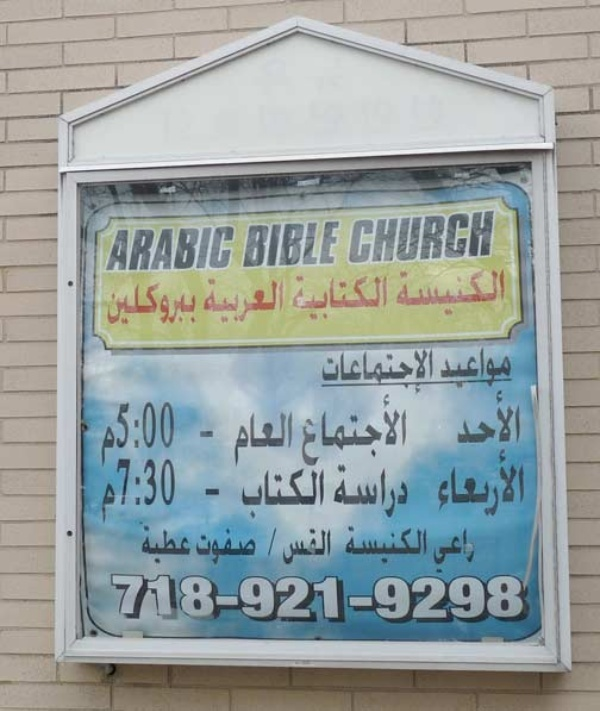text: (305, 392, 320, 469), (321, 392, 336, 469), (337, 392, 352, 469), (353, 392, 368, 469), (369, 392, 384, 469), (385, 392, 400, 469), (449, 445, 464, 517), (465, 445, 480, 517), (481, 445, 496, 517), (497, 445, 512, 517), (513, 445, 527, 517), (465, 390, 480, 451), (481, 390, 496, 451), (497, 390, 512, 451), (353, 208, 368, 267), (369, 208, 384, 267), (385, 208, 400, 267), (401, 208, 416, 267), (417, 208, 432, 267), (433, 208, 448, 267), (449, 208, 464, 267), (465, 208, 480, 267), (481, 208, 496, 267), (129, 455, 144, 511), (145, 455, 160, 511), (161, 455, 176, 511), (113, 570, 128, 625), (129, 570, 144, 625), (145, 570, 160, 625), (161, 570, 176, 625), (177, 570, 192, 625), (193, 570, 208, 625), (209, 570, 224, 625), (225, 570, 240, 625), (241, 570, 256, 625), (257, 570, 272, 625), (273, 570, 288, 625), (289, 570, 304, 625), (305, 570, 320, 625), (321, 570, 336, 625), (337, 570, 352, 625), (353, 570, 368, 625), (369, 570, 384, 625), (385, 570, 400, 625), (401, 570, 416, 625), (417, 570, 432, 625), (433, 570, 448, 625), (449, 570, 464, 625), (465, 570, 480, 625), (481, 570, 496, 625), (497, 570, 512, 625), (513, 570, 528, 625), (241, 410, 256, 465), (257, 410, 272, 465), (273, 410, 288, 465), (337, 464, 352, 519), (353, 464, 368, 519), (369, 464, 384, 519), (385, 464, 400, 519), (437, 445, 448, 517), (401, 266, 416, 318), (417, 266, 432, 318), (433, 266, 448, 318), (449, 266, 464, 318), (465, 266, 480, 318), (481, 266, 496, 318), (241, 467, 256, 519), (257, 467, 272, 519), (273, 467, 288, 519), (289, 467, 304, 519), (305, 467, 320, 519), (305, 272, 320, 322), (321, 272, 336, 322), (337, 272, 352, 322), (353, 272, 368, 322), (369, 272, 384, 322), (257, 221, 272, 270), (273, 221, 288, 270), (289, 221, 304, 270), (305, 221, 320, 270), (321, 221, 336, 270), (433, 527, 448, 576), (449, 527, 464, 576), (115, 455, 128, 511), (321, 347, 336, 395), (337, 347, 352, 395), (353, 347, 368, 395), (369, 347, 384, 395), (385, 347, 400, 395), (401, 347, 416, 395), (417, 347, 432, 395), (177, 521, 193, 566), (113, 282, 128, 329), (129, 282, 144, 329), (145, 282, 160, 329), (161, 282, 176, 329), (177, 282, 192, 329), (129, 402, 144, 449), (145, 402, 160, 449), (161, 402, 176, 449), (113, 227, 128, 273), (129, 227, 144, 273), (145, 227, 160, 273), (161, 227, 176, 273), (177, 227, 192, 273), (193, 227, 208, 273), (209, 227, 224, 273), (242, 221, 256, 270), (465, 527, 479, 576), (209, 278, 224, 323), (225, 278, 240, 323), (241, 278, 256, 323), (257, 278, 272, 323), (273, 278, 288, 323), (145, 521, 160, 566), (161, 521, 176, 566), (513, 390, 524, 451), (417, 523, 433, 564), (291, 272, 304, 322), (449, 347, 464, 390), (465, 347, 480, 390), (481, 347, 496, 390), (497, 347, 512, 390), (497, 266, 509, 318), (99, 480, 112, 528), (353, 523, 368, 564), (369, 523, 384, 564), (385, 523, 400, 564), (401, 523, 416, 564), (115, 402, 128, 449), (99, 423, 112, 470), (454, 390, 464, 451), (209, 526, 224, 566), (225, 526, 240, 566), (241, 526, 256, 566), (289, 527, 304, 566), (305, 527, 320, 566), (401, 392, 408, 469), (321, 467, 331, 519), (321, 527, 334, 566), (401, 464, 410, 519), (196, 526, 208, 566), (225, 227, 234, 273), (439, 347, 448, 390), (233, 410, 240, 465), (289, 410, 296, 465), (343, 523, 352, 564), (264, 522, 272, 564), (385, 272, 391, 322), (106, 282, 112, 329), (193, 282, 199, 329), (281, 527, 288, 566), (273, 522, 279, 564), (348, 208, 352, 267), (301, 392, 304, 469), (209, 486, 224, 501), (108, 570, 112, 625), (337, 221, 341, 270), (113, 480, 117, 528), (204, 278, 208, 323), (113, 423, 116, 470), (198, 428, 208, 442), (109, 227, 112, 273), (141, 521, 144, 566), (209, 428, 218, 442), (334, 464, 336, 519), (398, 266, 400, 318), (513, 347, 515, 390), (203, 486, 208, 501), (177, 455, 178, 511), (431, 527, 432, 576), (433, 347, 434, 395), (289, 278, 290, 323), (257, 526, 258, 566)
